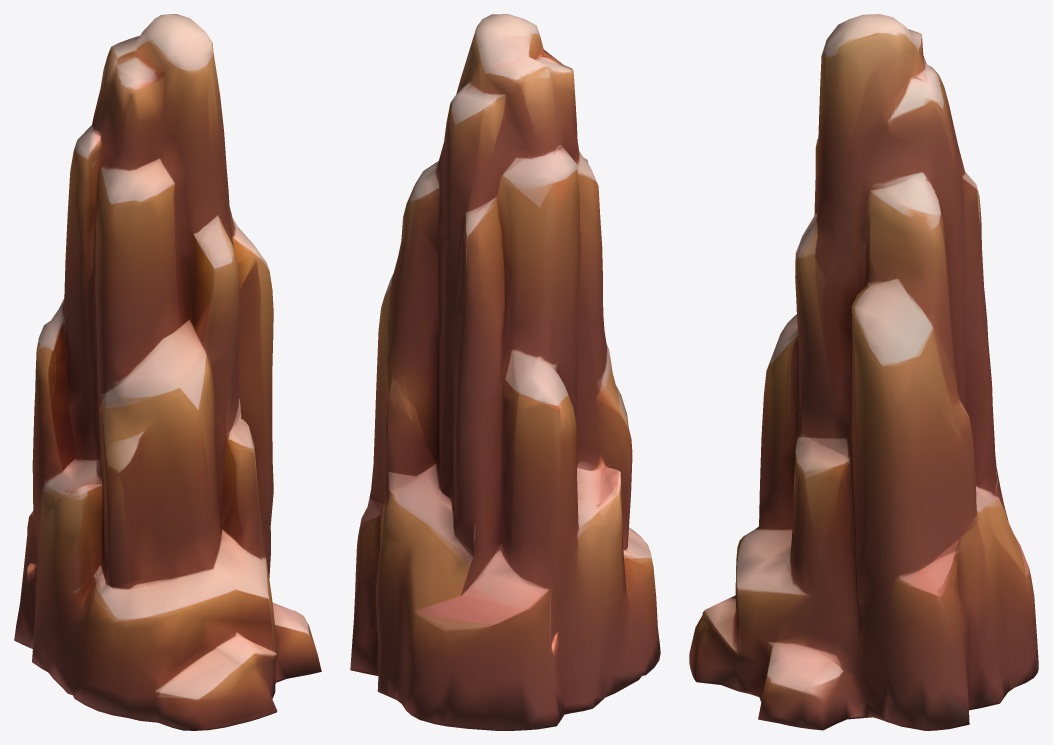
Rendered from вытянутая_м_1115180806_texture.fbx.
3 views of the same model, side by side, from view 1: azimuth 30°, elevation 25°; view 2: azimuth 150°, elevation 25°; view 3: azimuth 270°, elevation 25° (orthographic). The views are drawn at different scales.
Visible parts, largest first — view 1: input; view 2: input; view 3: input.
Part boxes in pixels (left/top/right/bottom): input: left=14, top=14, right=321, bottom=730; input: left=350, top=14, right=660, bottom=730; input: left=689, top=14, right=1038, bottom=730.
Bounding box in the file's own units: 74.45 × 191 × 92.46.
Materials: 1 (1 with a texture image).
